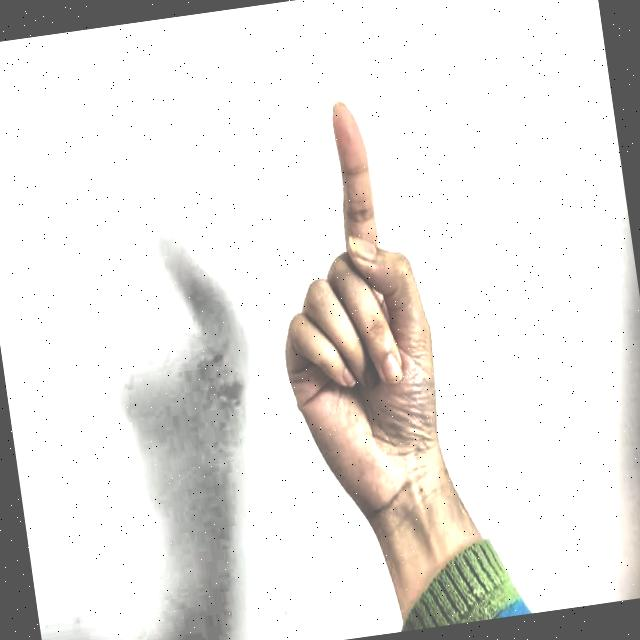U: (234, 59, 490, 547)
